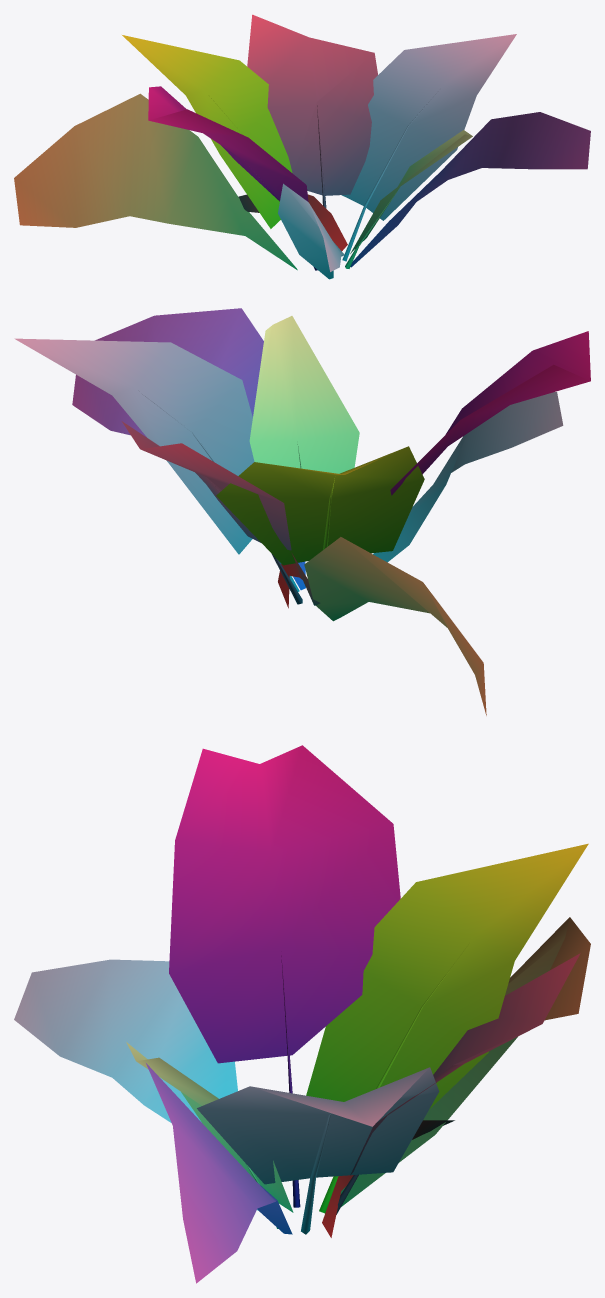
File: Lady_Fern_wdvlditia_Mid_wdvlditia_VarB_LOD1.fbx
3 renders of one model, top to bottom at view 1: azimuth 30°, elevation 25°; view 2: azimuth 150°, elevation 25°; view 3: azimuth 270°, elevation 25°, orthographic. The views are drawn at different scales.
Parts seen in each view (by area): view 1: _abht_VarB_LOD4; view 2: _abht_VarB_LOD4; view 3: _abht_VarB_LOD4.
Boxes of the visible parts, x1,y1,x2,y2 form: _abht_VarB_LOD4: (14, 14, 590, 279); _abht_VarB_LOD4: (14, 308, 590, 715); _abht_VarB_LOD4: (14, 745, 590, 1283).
Bounding box in the file's own units: 87.37 × 42.93 × 64.2.
